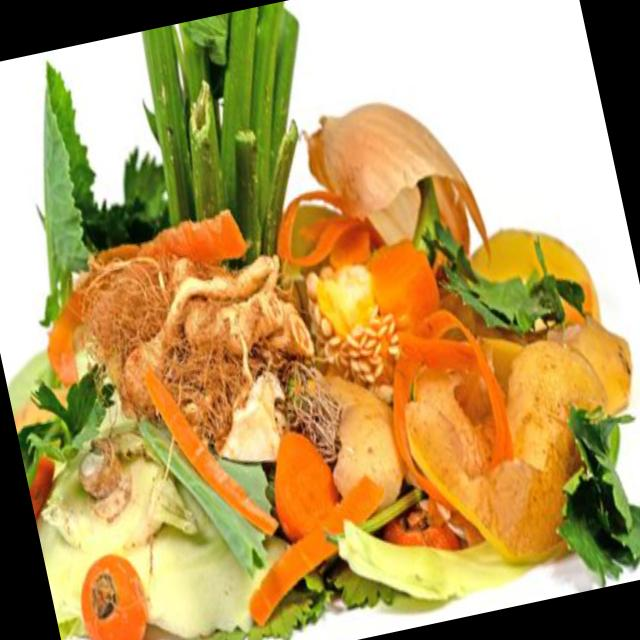paper: (292, 56, 486, 242), (3, 51, 109, 278), (537, 384, 640, 592), (140, 22, 242, 225), (266, 432, 354, 554), (68, 551, 165, 640), (17, 421, 70, 536)
